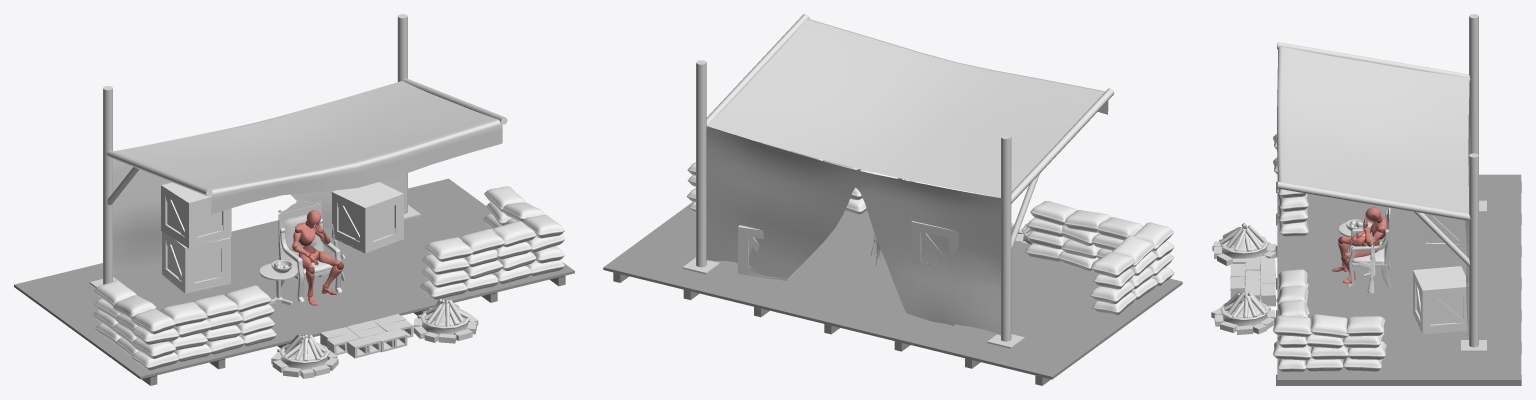
Rendered from Throne scene.fbx.
The picture shows the model from 3 angles, left to right: view 1: azimuth 30°, elevation 25°; view 2: azimuth 150°, elevation 25°; view 3: azimuth 270°, elevation 25°; orthographic projection. The views are drawn at different scales.
Visible parts, largest first — view 1: Floor_boards, Tarp, Curtain, Crate5, Crate6, Tarp_rod1, Crate4, Throne_final, Campfire, Campfire2, Person, Tarp_rod2 (+16 smaller); view 2: Tarp, Curtain, Floor_boards, Tarp_rod1, Tarp_rod2, Crate6, Crate5, Floor_board_support, pCube57, pCube55, pCube59, pCube58 (+4 smaller); view 3: Floor_boards, Tarp, Tarp_rod2, Crate5, Tarp_rod1, Campfire2, Campfire, Crate4, Person, Throne_final, Floor_board_support, pCube56 (+21 smaller).
Part boxes in pixels (<box>): Floor_boards: <box>14,178,574,379</box>; Tarp: <box>114,81,502,214</box>; Curtain: <box>112,84,404,276</box>; Crate5: <box>331,182,403,253</box>; Crate6: <box>161,182,231,248</box>; Tarp_rod1: <box>89,86,212,287</box>; Crate4: <box>162,231,230,293</box>; Throne_final: <box>278,203,342,301</box>; Campfire: <box>271,333,338,378</box>; Campfire2: <box>413,298,478,343</box>; Person: <box>292,210,343,305</box>; Tarp_rod2: <box>397,14,507,219</box>; Tarp: <box>707,19,1108,197</box>; Curtain: <box>706,126,1000,335</box>; Floor_boards: <box>603,202,1182,379</box>; Tarp_rod1: <box>987,88,1114,348</box>; Tarp_rod2: <box>682,14,809,274</box>; Crate6: <box>911,221,958,266</box>; Crate5: <box>738,225,799,280</box>; Floor_board_support: <box>613,272,1050,385</box>; pCube57: <box>1091,252,1135,277</box>; pCube55: <box>1030,201,1076,225</box>; pCube59: <box>1063,210,1110,232</box>; pCube58: <box>1096,217,1143,240</box>; Floor_boards: <box>1277,174,1521,382</box>; Tarp: <box>1277,47,1469,213</box>; Tarp_rod2: <box>1277,153,1486,352</box>; Crate5: <box>1413,266,1468,334</box>; Tarp_rod1: <box>1277,14,1486,212</box>; Campfire2: <box>1211,291,1275,334</box>; Campfire: <box>1212,223,1276,266</box>; Crate4: <box>1418,213,1466,252</box>; Person: <box>1332,207,1386,283</box>; Throne_final: <box>1347,207,1390,287</box>; Floor_board_support: <box>1276,181,1521,385</box>; pCube56: <box>1310,314,1348,338</box>.
Size of the model in its own units: 76.59 by 35.12 by 48.89.
